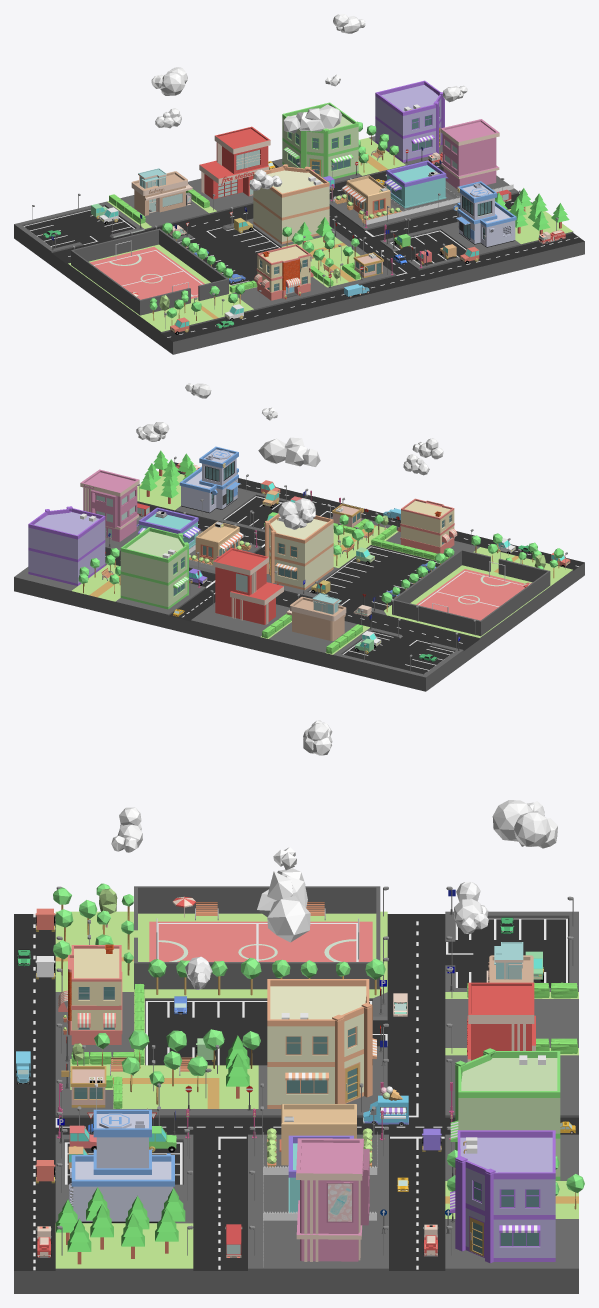
File: ciudadConAutos.glb
3 views of the same model, one above another, from view 1: azimuth 30°, elevation 25°; view 2: azimuth 150°, elevation 25°; view 3: azimuth 270°, elevation 25° (orthographic). The views are drawn at different scales.
Parts seen in each view (by area): view 1: plane_materiale base_0, Cube.002_materiale base_0, vetro.016_materiale base_0, tenda.006_materiale base_0, Sphere.001_materiale base_0, fire_station_31.001, tenda.005_materiale base_0, hotel_36, police station_materiale base_0, pizzeria_materiale base_0, base casa.002_materiale base_0, casa.006_materiale base_0 (+13 smaller); view 2: plane_materiale base_0, tenda.006_materiale base_0, Cube.002_materiale base_0, tenda.005_materiale base_0, vetro.016_materiale base_0, fire_station_31.001, Sphere.001_materiale base_0, hotel_36, police station_materiale base_0, pizzeria_materiale base_0, bakery_27.001, casa.006_materiale base_0 (+13 smaller); view 3: plane_materiale base_0, vetro.016_materiale base_0, tenda.006_materiale base_0, Sphere.001_materiale base_0, Cube.002_materiale base_0, tenda.005_materiale base_0, hotel_36, police station_materiale base_0, pizzeria_materiale base_0, fire_station_31.001, road lines_materiale base_0, Cube.001_materiale base_0 (+14 smaller).
Boxes of the visible parts, x1,y1,x2,y2 form: plane_materiale base_0: [14, 136, 584, 354]; Cube.002_materiale base_0: [71, 228, 228, 315]; vetro.016_materiale base_0: [253, 164, 329, 244]; tenda.006_materiale base_0: [375, 80, 444, 162]; Sphere.001_materiale base_0: [151, 14, 467, 190]; fire_station_31.001: [199, 126, 270, 199]; tenda.005_materiale base_0: [282, 102, 358, 178]; hotel_36: [440, 119, 499, 188]; police station_materiale base_0: [453, 181, 516, 247]; pizzeria_materiale base_0: [254, 244, 313, 300]; base casa.002_materiale base_0: [384, 160, 448, 208]; casa.006_materiale base_0: [334, 175, 401, 223]; plane_materiale base_0: [14, 462, 584, 691]; tenda.006_materiale base_0: [28, 506, 105, 585]; Cube.002_materiale base_0: [392, 549, 550, 636]; tenda.005_materiale base_0: [120, 527, 189, 609]; vetro.016_materiale base_0: [264, 513, 333, 590]; fire_station_31.001: [213, 548, 283, 624]; Sphere.001_materiale base_0: [136, 383, 443, 529]; hotel_36: [80, 469, 139, 541]; police station_materiale base_0: [179, 446, 240, 513]; pizzeria_materiale base_0: [397, 498, 457, 553]; bakery_27.001: [286, 596, 346, 641]; casa.006_materiale base_0: [189, 521, 251, 565]; plane_materiale base_0: [14, 911, 578, 1293]; vetro.016_materiale base_0: [267, 979, 376, 1108]; tenda.006_materiale base_0: [450, 1130, 555, 1263]; Sphere.001_materiale base_0: [111, 720, 557, 989]; Cube.002_materiale base_0: [134, 886, 380, 989]; tenda.005_materiale base_0: [450, 1048, 560, 1180]; hotel_36: [296, 1138, 369, 1261]; police station_materiale base_0: [69, 1108, 174, 1222]; pizzeria_materiale base_0: [58, 945, 122, 1044]; fire_station_31.001: [467, 982, 535, 1061]; road lines_materiale base_0: [33, 914, 567, 1270]; Cube.001_materiale base_0: [56, 1187, 185, 1264].
Size of the model in its own units: 128 by 52.02 by 86.81.
128 materials, 6 textured.
